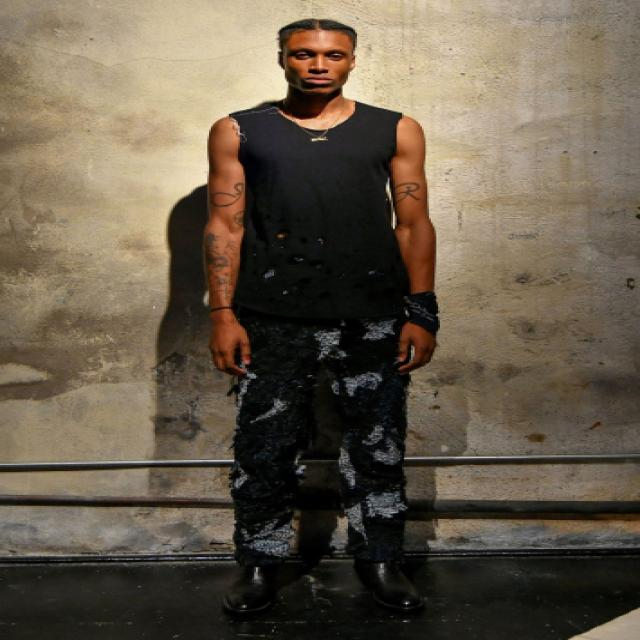mobile_phonerotation: (196, 17, 444, 615)
